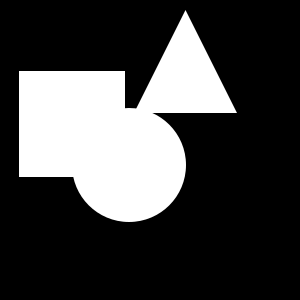circle: (19, 71, 125, 177)
rectangle: (72, 108, 186, 222)
triangle: (134, 10, 237, 113)
